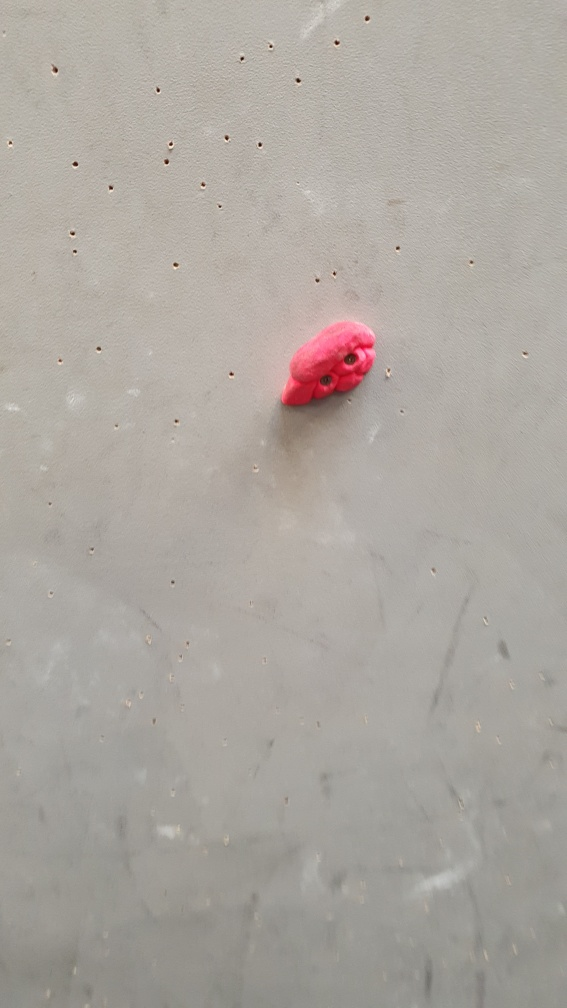Jug: (278, 315, 378, 407)
